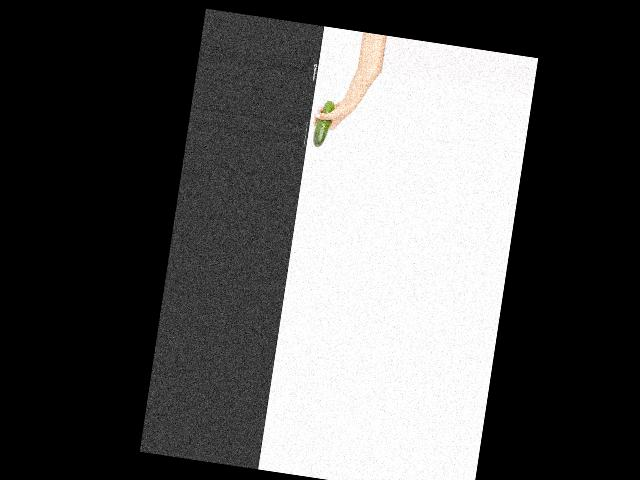cucumber: (311, 99, 335, 149)
